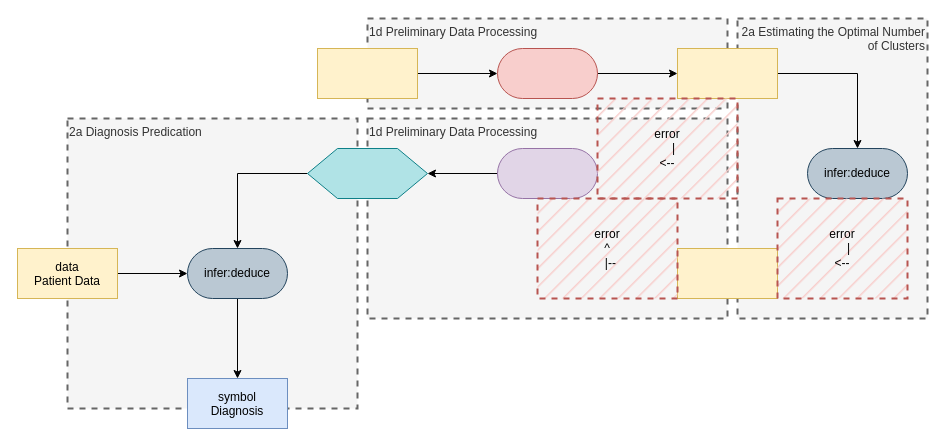
This 946x446 diagram has some shape labels left out. The centre of each missing label's shape, as x and y in pixels:
data Optimal no. of Clusters: point (727, 273)
data Raw Patient Data: point (367, 73)
data Structured and Preprocessed: point (727, 73)
generate:engineer: point (547, 173)
model:statistical Fuzzy Partition Matrix: point (367, 173)
transform:embed: point (547, 73)
